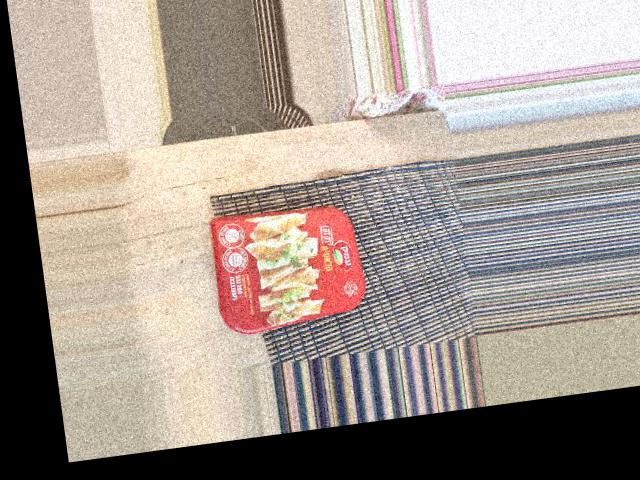cheese: (197, 203, 375, 332)
